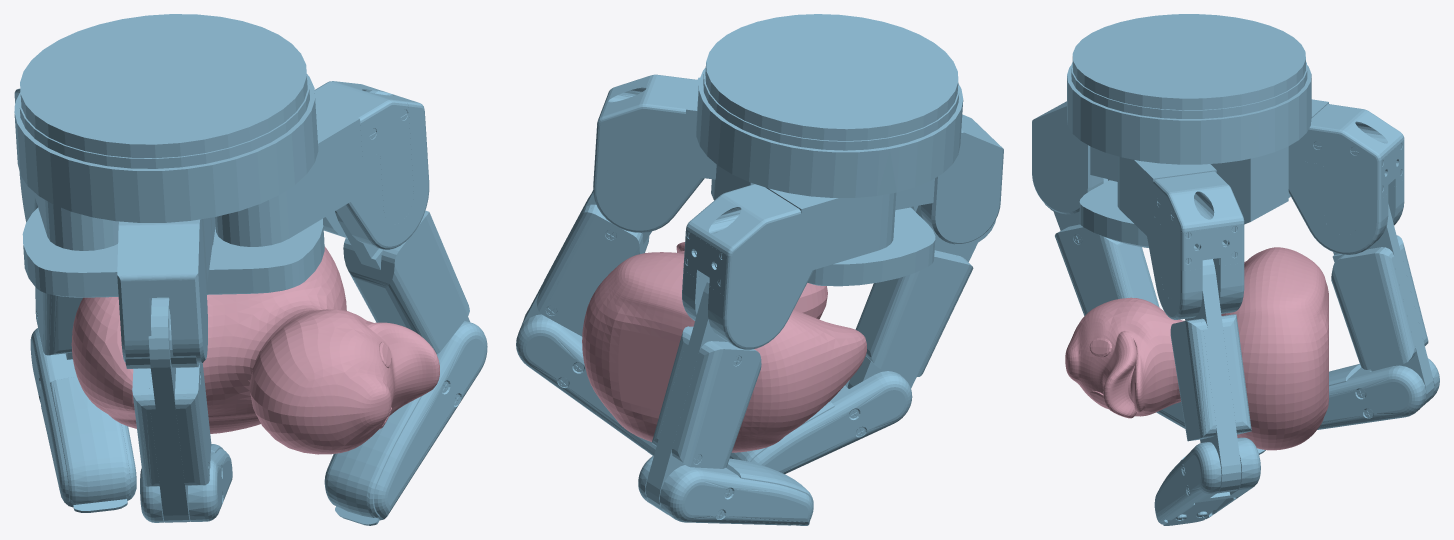
The picture shows the model from 3 angles, left to right: view 1: azimuth 30°, elevation 25°; view 2: azimuth 150°, elevation 25°; view 3: azimuth 270°, elevation 25°; orthographic projection. The views are drawn at different scales.
Visible parts, largest first — view 1: world; view 2: world; view 3: world.
Part boxes in pixels (x1,y1,x2,y2): world: [14, 14, 487, 525]; world: [516, 14, 1003, 525]; world: [1032, 14, 1439, 525].
Bounding box in the file's own units: 0.1584 × 0.1609 × 0.1483.
